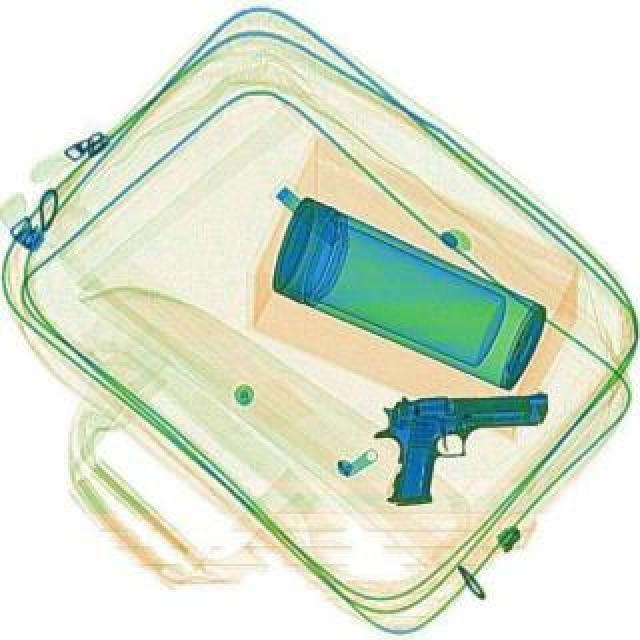gun: (368, 388, 552, 504)
